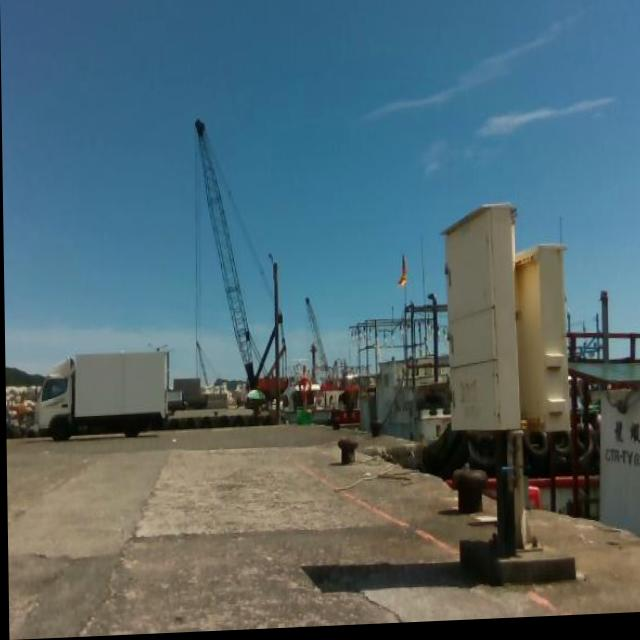pollute: (170, 437, 177, 443)
